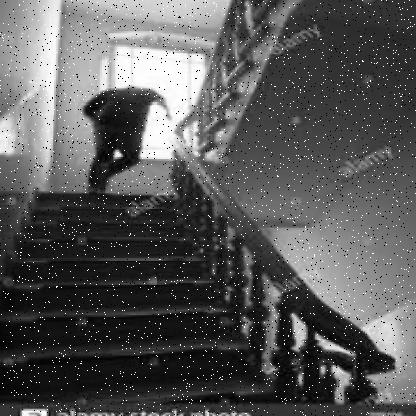stair_up: (14, 250, 249, 375)
